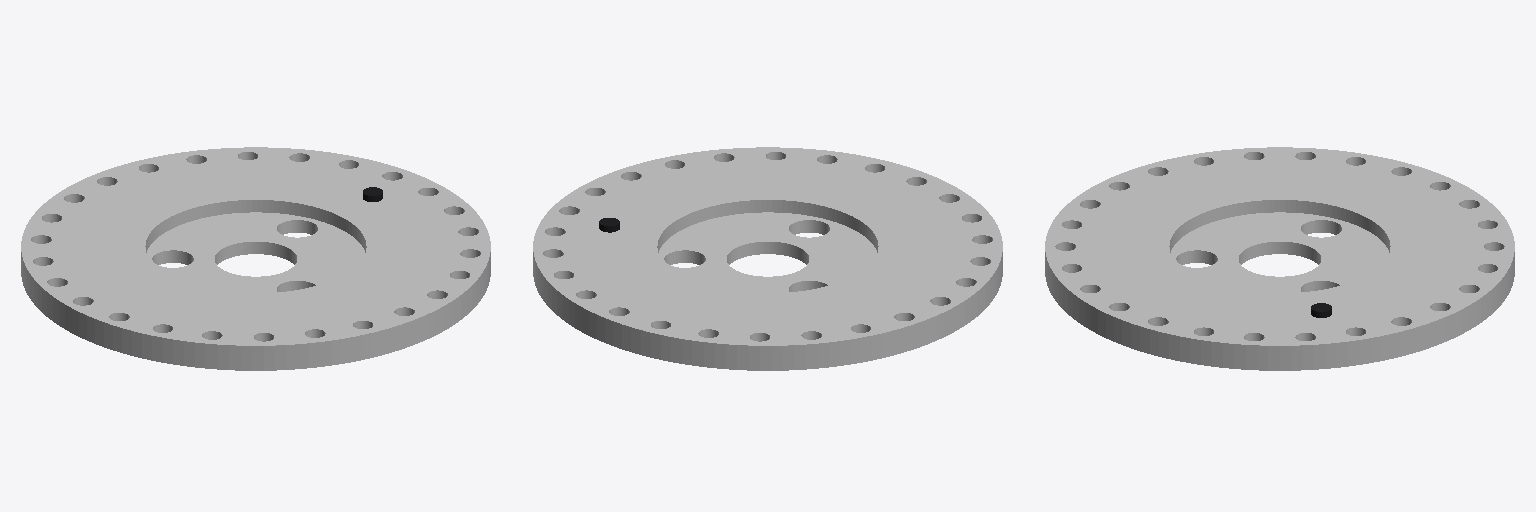
File: contact.obj
The picture shows the model from 3 angles: view 1: azimuth 30°, elevation 25°; view 2: azimuth 150°, elevation 25°; view 3: azimuth 270°, elevation 25°; orthographic projection.
Parts seen in each view (by area): view 1: contact_Cylinder.003; view 2: contact_Cylinder.003; view 3: contact_Cylinder.003.
Boxes of the visible parts, <box> form: contact_Cylinder.003: <box>21,147,490,370</box>; contact_Cylinder.003: <box>533,147,1002,370</box>; contact_Cylinder.003: <box>1045,147,1514,370</box>.
Size of the model in its own units: 3.4 by 0.25 by 3.4.